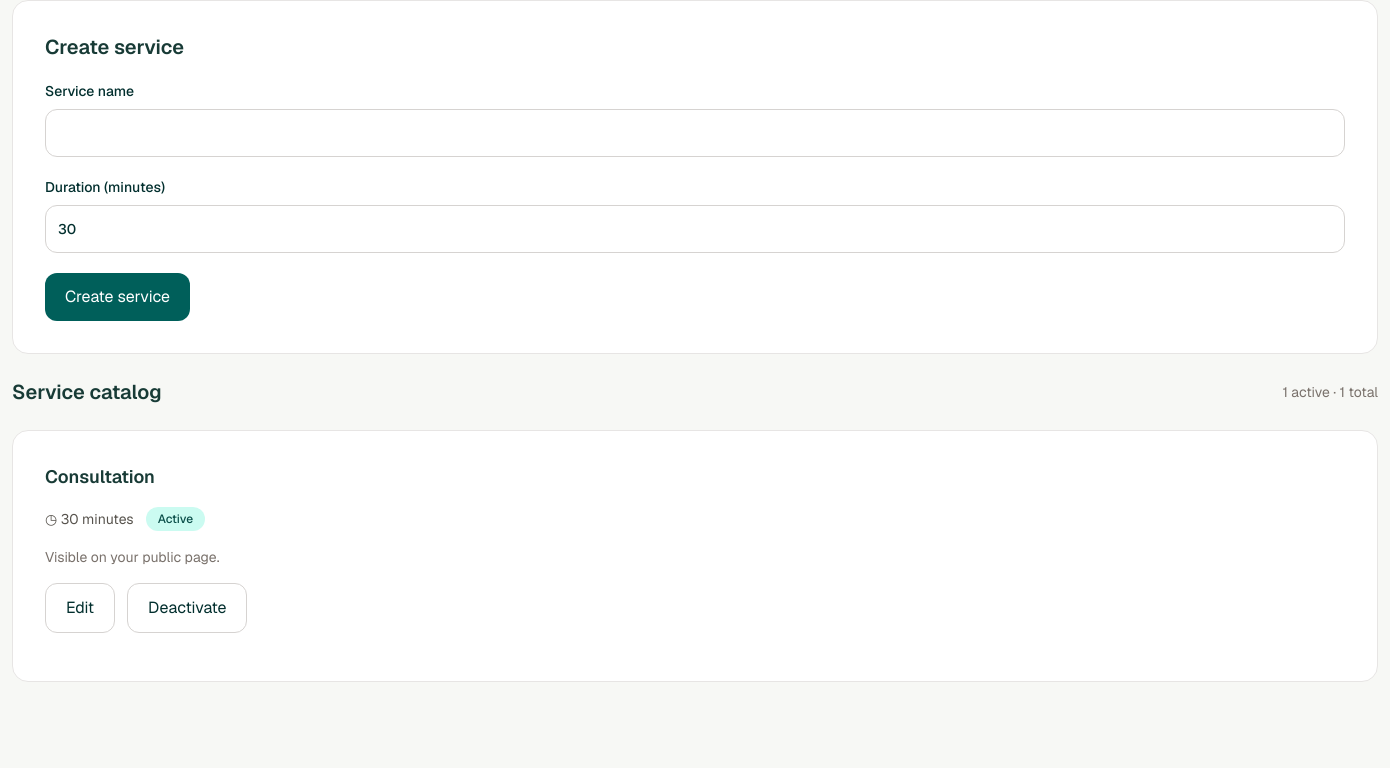
deactivates without removing the service from the owner list
Click the button with aria-label "Deactivate Consultation".
click(187, 608)  # box x1=127 y1=583 x2=247 y2=633
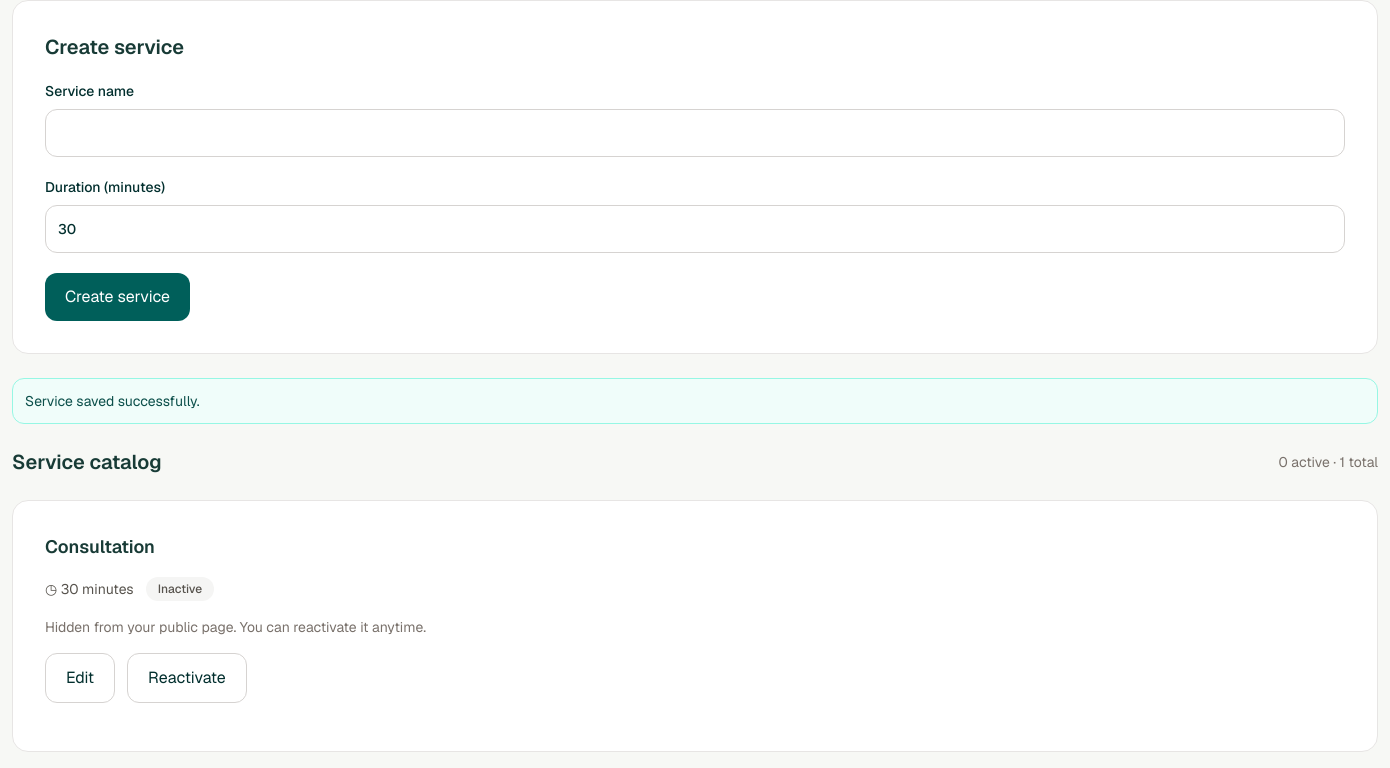
Expected: the heading "Consultation" is shown, x1=45 y1=535 x2=155 y2=558
Result: the button with aria-label "Reactivate Consultation" is shown at x1=127 y1=653 x2=247 y2=703
